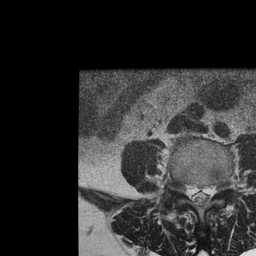CCS_normal: (197, 177, 204, 214)
LFS_normal: (213, 174, 222, 200)
LLS_normal: (204, 177, 213, 209)
RFS_normal: (180, 173, 189, 202)
RLS_normal: (189, 176, 197, 210)
